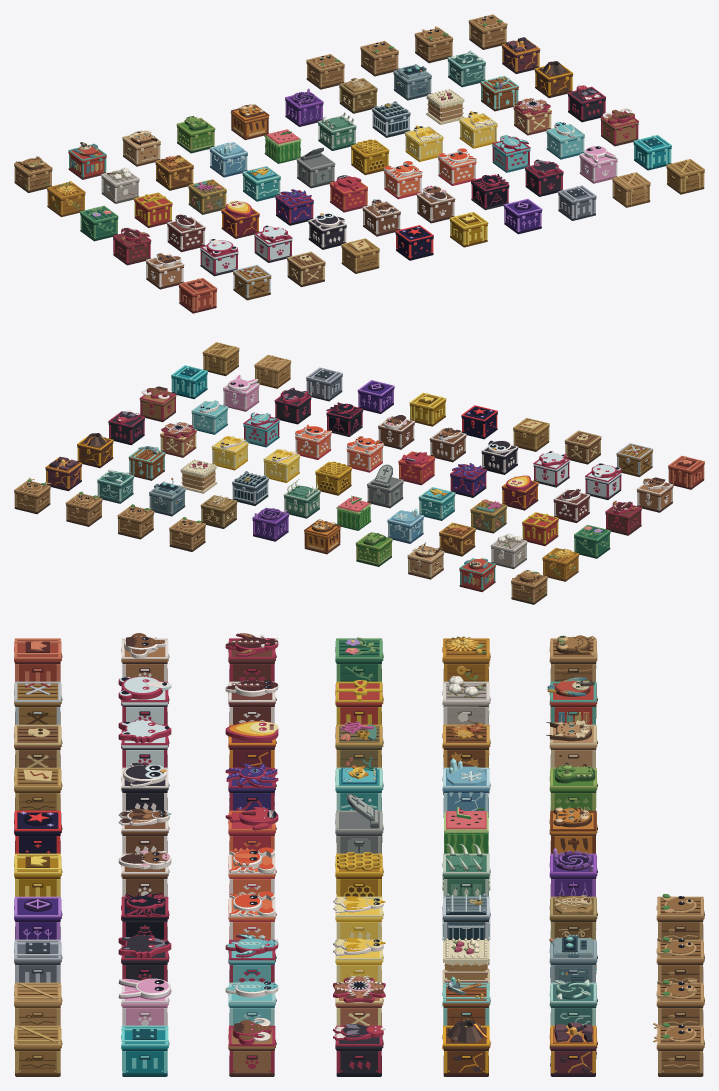
The model's file is skins-caixas.fbx.
3 renders of one model, top to bottom at view 1: azimuth 30°, elevation 25°; view 2: azimuth 150°, elevation 25°; view 3: azimuth 270°, elevation 25°, orthographic. The views are drawn at different scales.
Visible parts, largest first — view 1: crate_verme_areia_caixa, crate_mamute_caixa, crate_lapide_caixa, crate_coelho_caixa, crate_dragao_caixa, crate_dragao_lava_caixa, crate_caranguejo_rei_caixa, crate_urso_polar_caixa, crate_monstro_lava_caixa, crate_pinguim_caixa, crate_javali_caixa, crate_raposa_artica_caixa (+52 smaller); view 2: crate_lapide_caixa, crate_urso_polar_caixa, crate_verme_areia_caixa, crate_caranguejo_rei_caixa, crate_mamute_caixa, crate_raposa_artica_caixa, crate_lobo_caixa, crate_espinhos_caixa, crate_mamute_filhote_caixa, crate_kraken_caixa, crate_caranguejo_caixa, crate_lince_caixa (+52 smaller); view 3: crate_mamute_caixa, crate_vulcao_caixa, crate_abutre_caixa, crate_cervo_madeira_caixa, crate_diamante_caixa, crate_default_caixa, crate_magma_caixa, crate_lapide_caixa, crate_verme_areia_caixa, crate_coelho_caixa, crate_espinhos_caixa, crate_dragao_caixa (+52 smaller).
Part boxes in pixels (x1,y1,x2,y2): crate_verme_areia_caixa: (513, 98, 551, 135); crate_mamute_caixa: (600, 108, 638, 146); crate_lapide_caixa: (296, 147, 335, 188); crate_coelho_caixa: (579, 146, 617, 183); crate_dragao_caixa: (492, 134, 530, 172); crate_dragao_lava_caixa: (113, 227, 151, 265); crate_caranguejo_rei_caixa: (383, 161, 422, 199); crate_urso_polar_caixa: (200, 238, 238, 276); crate_monstro_lava_caixa: (221, 200, 259, 238); crate_pinguim_caixa: (308, 213, 346, 249); crate_javali_caixa: (416, 185, 455, 223); crate_raposa_artica_caixa: (254, 225, 292, 262); crate_lapide_caixa: (367, 464, 403, 508); crate_urso_polar_caixa: (585, 463, 621, 499); crate_verme_areia_caixa: (160, 422, 196, 457); crate_caranguejo_rei_caixa: (346, 436, 383, 472); crate_mamute_caixa: (139, 386, 176, 422); crate_raposa_artica_caixa: (533, 451, 569, 487); crate_lobo_caixa: (274, 387, 311, 424); crate_espinhos_caixa: (283, 479, 320, 518); crate_mamute_filhote_caixa: (636, 477, 673, 512); crate_kraken_caixa: (450, 463, 486, 497); crate_caranguejo_caixa: (295, 424, 331, 459); crate_lince_caixa: (407, 542, 444, 579); crate_mamute_caixa: (228, 1018, 276, 1076); crate_vulcao_caixa: (442, 1020, 490, 1076); crate_abutre_caixa: (333, 1024, 385, 1076); crate_cervo_madeira_caixa: (653, 1023, 704, 1076); crate_diamante_caixa: (121, 1025, 169, 1076); crate_default_caixa: (14, 1025, 62, 1076); crate_magma_caixa: (549, 1022, 597, 1076); crate_lapide_caixa: (335, 793, 383, 853); crate_verme_areia_caixa: (333, 976, 385, 1025); crate_coelho_caixa: (118, 978, 171, 1025); crate_espinhos_caixa: (442, 844, 490, 896); crate_dragao_caixa: (225, 934, 278, 982).
Bounding box in the file's own units: 54.25 × 3.53 × 38.7.
1 material, 1 textured.
